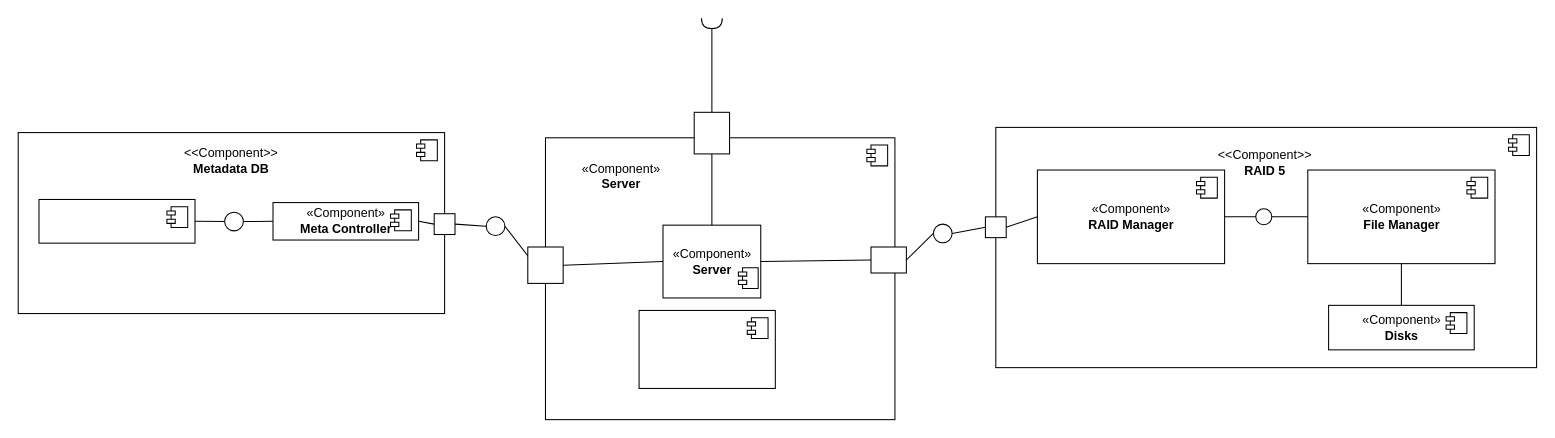
This 1555x438 diagram has some shape labels left out. Here are the shapes that lost their labels. From the top down, the box of each, then its label:
(38, 198, 195, 243): «Component» Key Value
(638, 309, 775, 388): «Component» Netpackage
